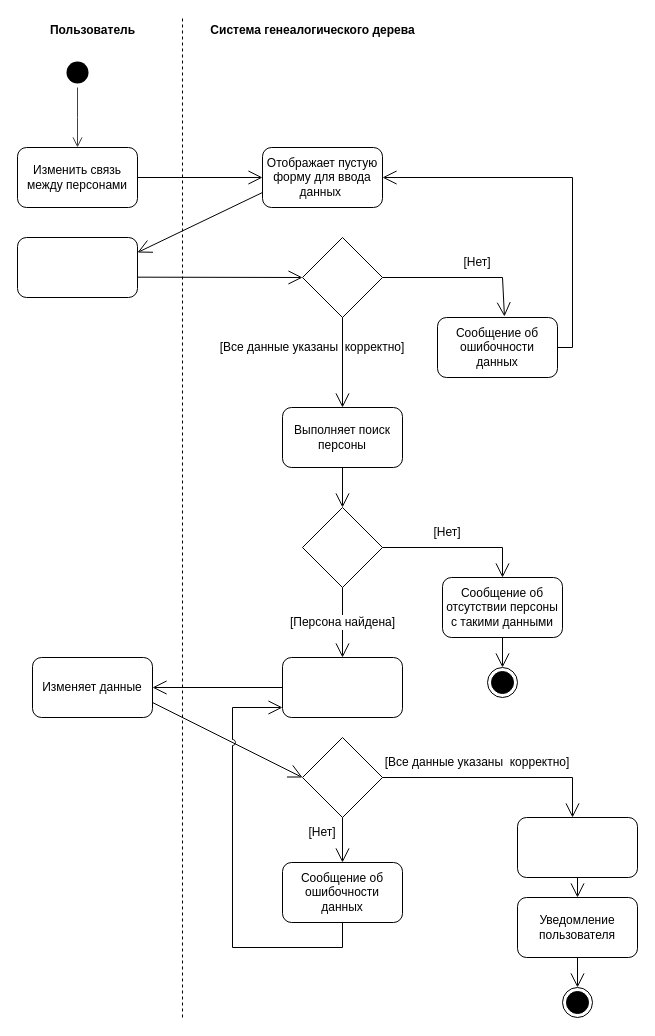
Image size: 655x1036. Some labels were removed from this diagram. The centre of each missing label's shape, as x and y in pixels:
"Вводит данные о персоне" goes at pixel 77 267.
"Изменение информации о связи между персонами" goes at pixel 577 847.
"Отображает список связей этой персоны" goes at pixel 342 687.
